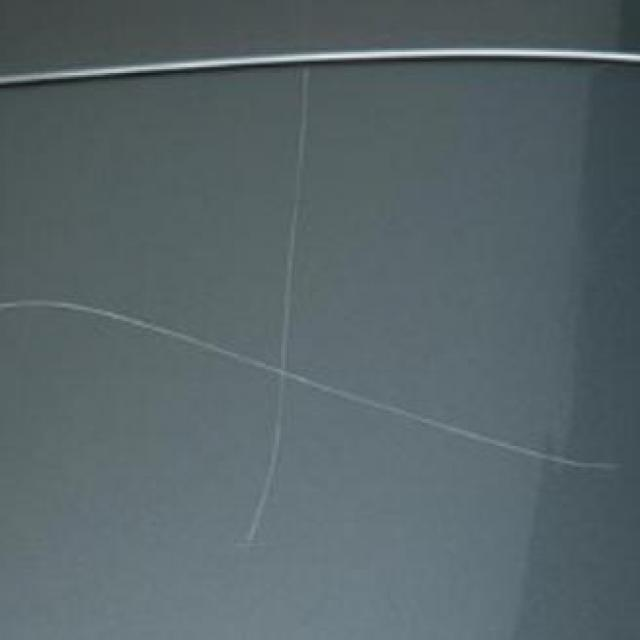scratch: (2, 286, 628, 477), (212, 47, 332, 578)
